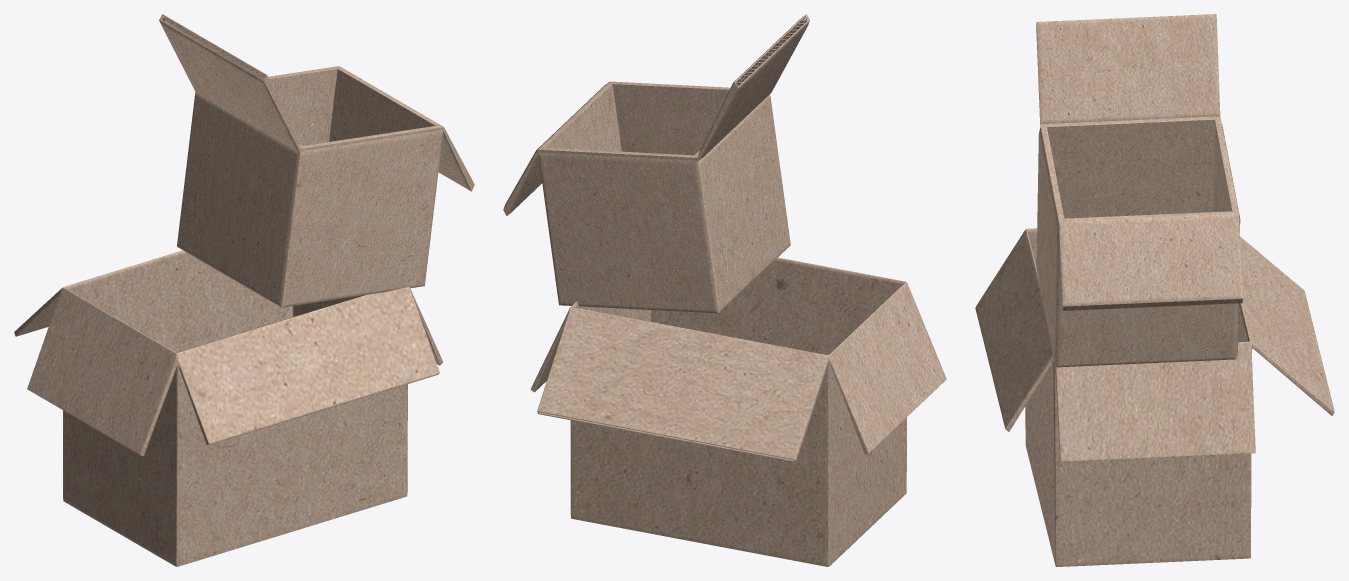
File: Kastid.fbx
3 renders of one model, left to right at view 1: azimuth 30°, elevation 25°; view 2: azimuth 150°, elevation 25°; view 3: azimuth 270°, elevation 25°, orthographic. The views are drawn at different scales.
Parts seen in each view (by area): view 1: cardboard_box1, cardboard_box2; view 2: cardboard_box1, cardboard_box2; view 3: cardboard_box2, cardboard_box1.
Part boxes in pixels (left/top/right/bottom): cardboard_box1: left=14, top=250, right=443, bottom=566; cardboard_box2: left=159, top=14, right=474, bottom=307; cardboard_box1: left=530, top=257, right=946, bottom=566; cardboard_box2: left=503, top=14, right=809, bottom=313; cardboard_box2: left=1036, top=14, right=1242, bottom=367; cardboard_box1: left=975, top=228, right=1334, bottom=566.
Size of the model in its own units: 72.86 by 86.95 by 60.08.
